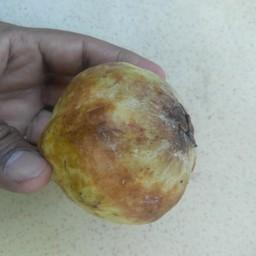Bad_guava: (44, 57, 199, 227)
